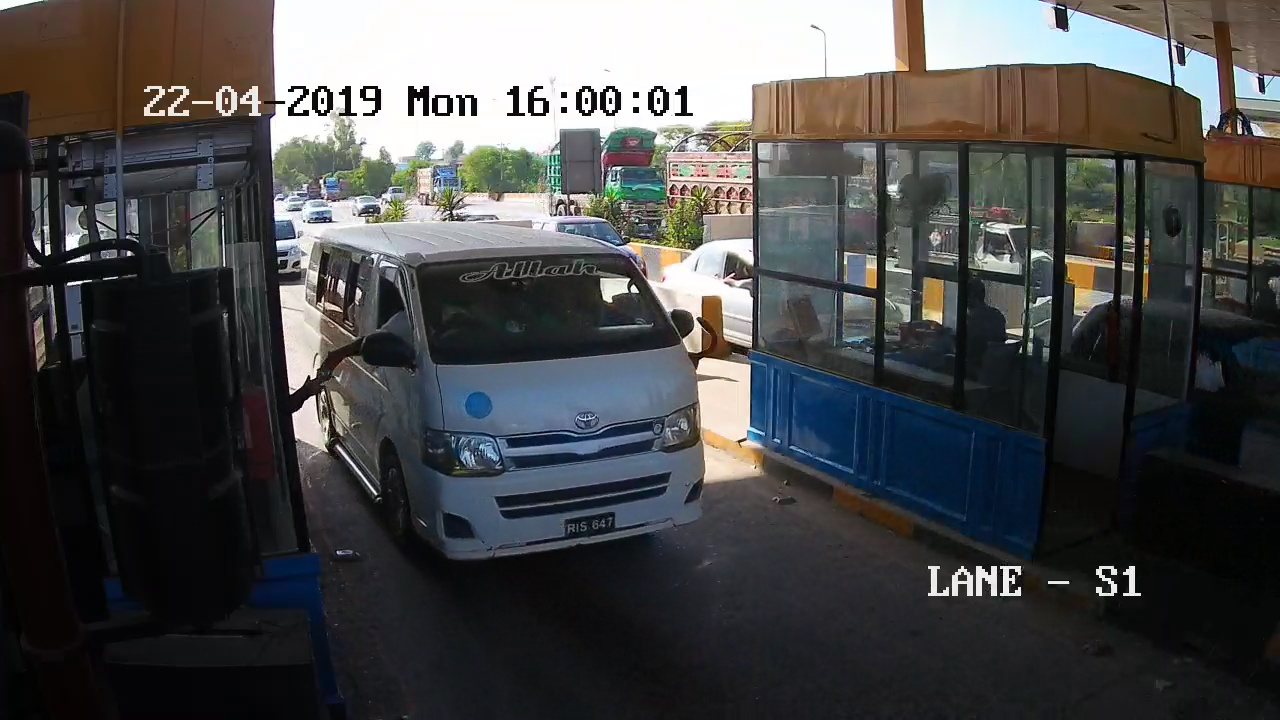car: (312, 222, 727, 565)
